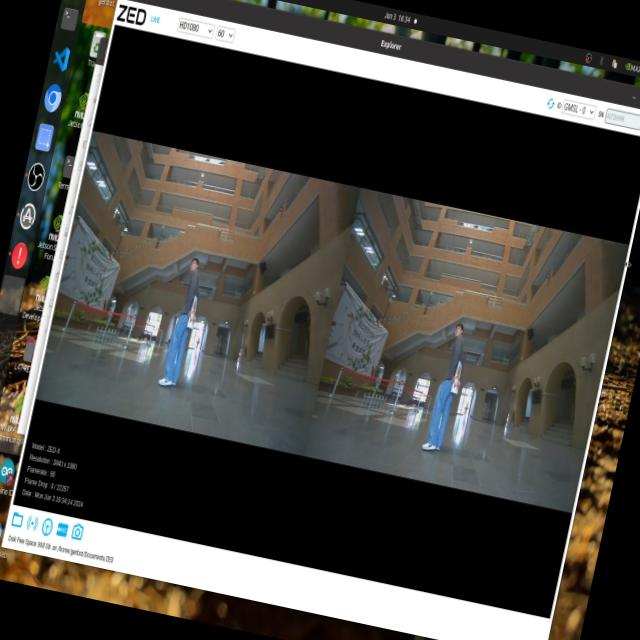red: (185, 296, 204, 334), (448, 363, 464, 398)
